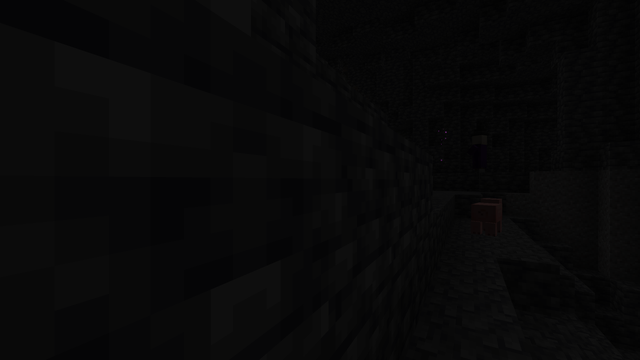cochons: (470, 201, 506, 236)
sorcieres: (472, 133, 486, 172)
